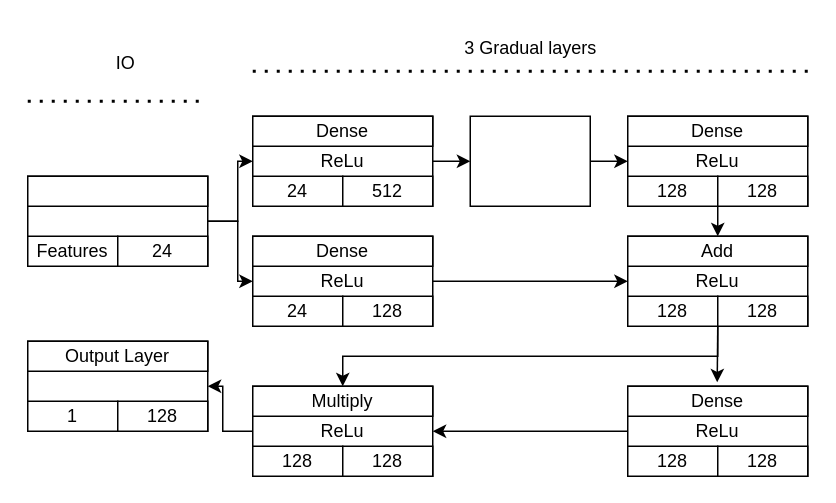
The diagram is 836 pixels wide and 503 high, and some of its shapes have lost their labels. The shapes that lost their labels are listed below. From the top down, each one's box as (x1, y1, x2, y2) in pixels, then its label:
(469, 115, 590, 206): Normalization
(26, 175, 208, 206): Input Layer
(26, 340, 208, 431): Sigmoid
